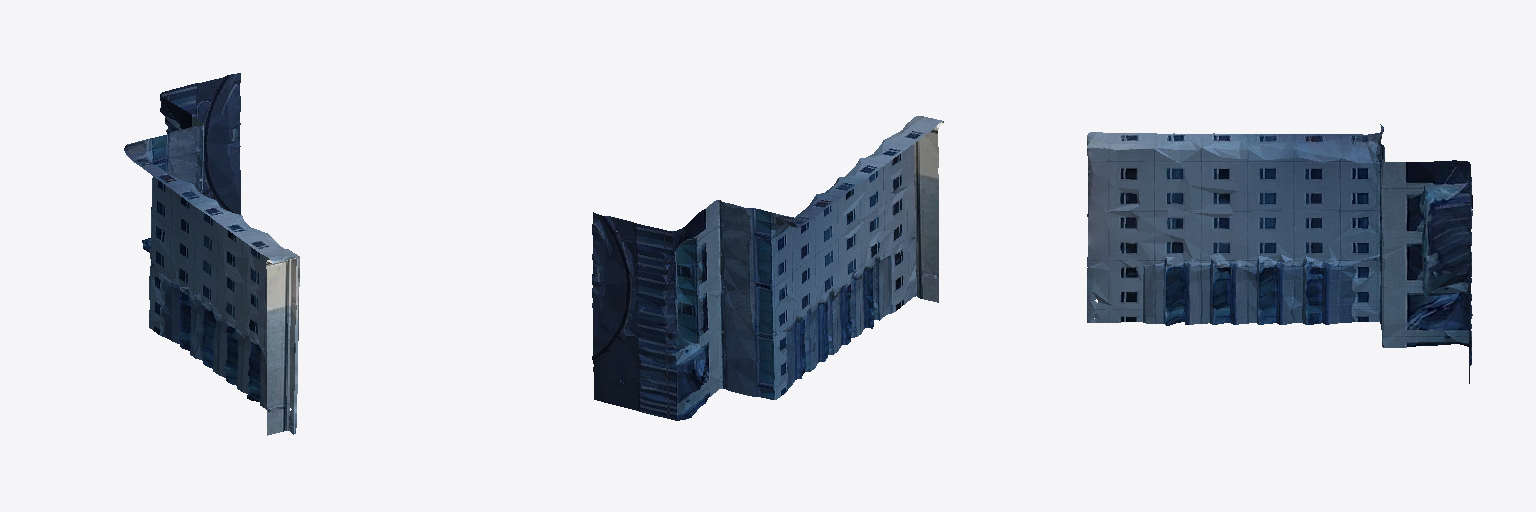
3 renders of one model, left to right at view 1: azimuth 30°, elevation 25°; view 2: azimuth 150°, elevation 25°; view 3: azimuth 270°, elevation 25°, orthographic.
Parts seen in each view (by area): view 1: obj_0; view 2: obj_0; view 3: obj_0.
Boxes of the visible parts, x1,y1,x2,y2 form: obj_0: [124, 73, 299, 435]; obj_0: [592, 116, 943, 420]; obj_0: [1087, 124, 1472, 383].
Bounding box in the file's own units: 20.08 × 22.53 × 41.92.
1 materials, 1 textured.